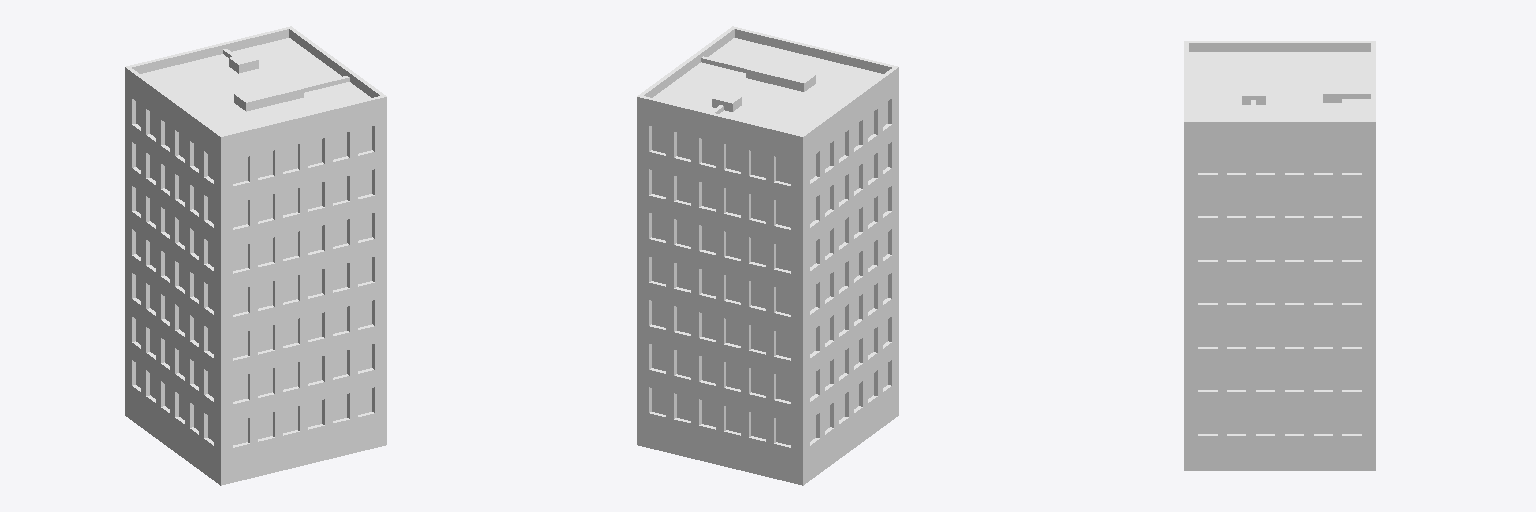
Rendered from Asset-17.obj.
3 renders of one model, left to right at view 1: azimuth 30°, elevation 25°; view 2: azimuth 150°, elevation 25°; view 3: azimuth 270°, elevation 25°, orthographic.
Parts seen in each view (by area): view 1: Asset-17; view 2: Asset-17; view 3: Asset-17.
Boxes of the visible parts, box(x1,y1,x2,y2) form: Asset-17: box(125, 26, 386, 485); Asset-17: box(637, 26, 898, 485); Asset-17: box(1184, 41, 1375, 470).
Size of the model in its own units: 40 by 80 by 40.